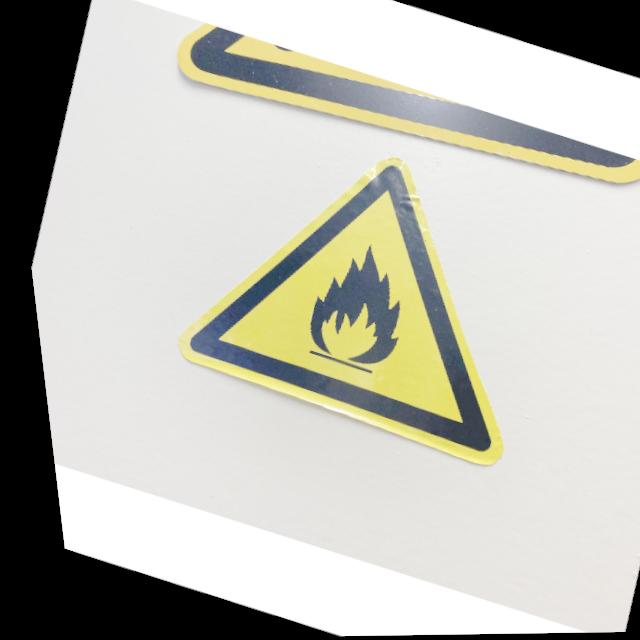fire hazard: (140, 102, 576, 476)
